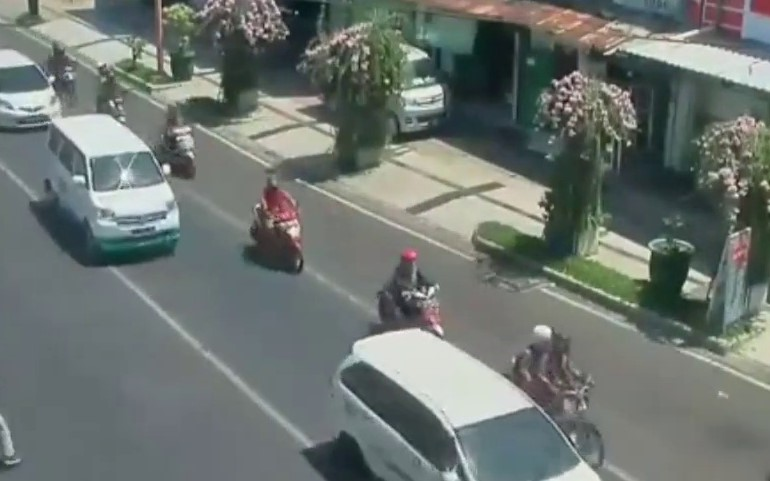car: (335, 330, 602, 481), (48, 113, 184, 263), (1, 48, 63, 136)
motorbike: (511, 319, 609, 472), (380, 250, 447, 350), (246, 173, 307, 281), (163, 106, 199, 180), (97, 61, 128, 128), (49, 42, 77, 106)
